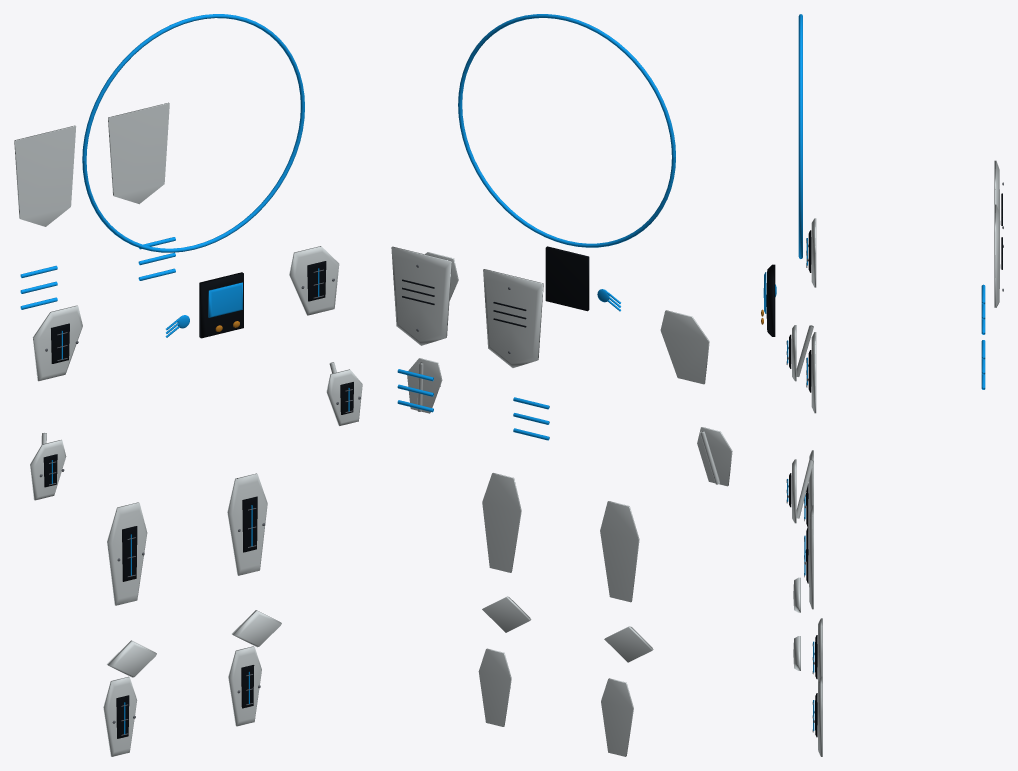
Rendered from Timmy-new-parts.obj.
The picture shows the model from 3 angles, left to right: view 1: azimuth 30°, elevation 25°; view 2: azimuth 150°, elevation 25°; view 3: azimuth 270°, elevation 25°; orthographic projection. The views are drawn at different scales.
Size of the model in its own units: 0.7441 by 1.56 by 0.4933.
